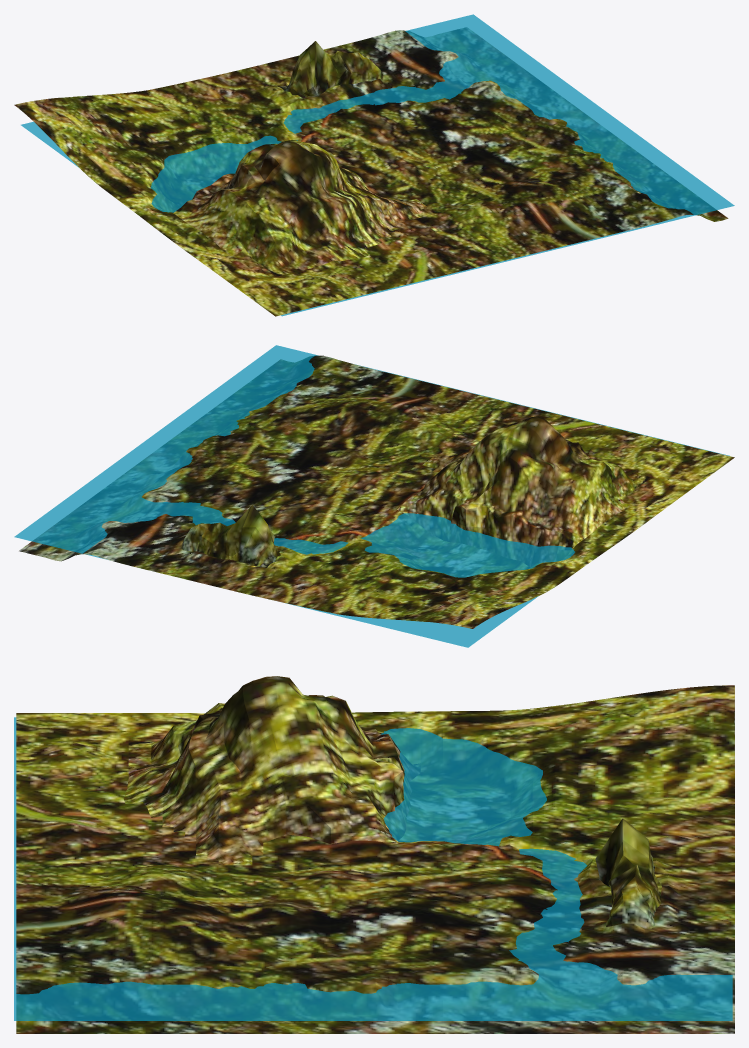
The model's file is ASR.fbx.
3 views of the same model, one above another, from view 1: azimuth 30°, elevation 25°; view 2: azimuth 150°, elevation 25°; view 3: azimuth 270°, elevation 25° (orthographic). The views are drawn at different scales.
Parts seen in each view (by area): view 1: Stage, Water; view 2: Stage, Water; view 3: Stage, Water.
Boxes of the visible parts, x1,y1,x2,y2 form: Stage: [14, 27, 728, 316]; Water: [21, 14, 734, 316]; Stage: [19, 355, 734, 628]; Water: [14, 345, 729, 647]; Stage: [16, 676, 734, 1033]; Water: [14, 717, 732, 1020].
Size of the model in its own units: 202 by 40.52 by 201.
Materials: 2 (1 with a texture image).
